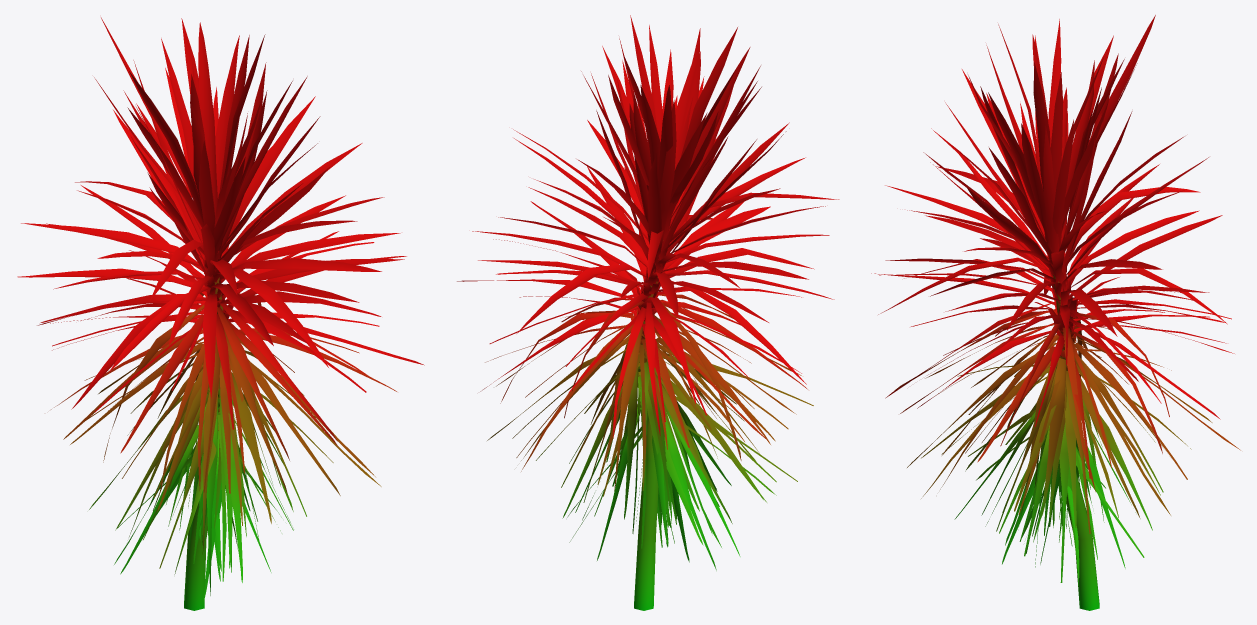
File: Var4_LOD4.fbx
3 renders of one model, left to right at view 1: azimuth 30°, elevation 25°; view 2: azimuth 150°, elevation 25°; view 3: azimuth 270°, elevation 25°, orthographic. The views are drawn at different scales.
Visible parts, largest first — view 1: _746m_Var4_LOD4; view 2: _746m_Var4_LOD4; view 3: _746m_Var4_LOD4.
Part boxes in pixels (x1,y1,x2,y2): _746m_Var4_LOD4: (17,17,424,610); _746m_Var4_LOD4: (457,15,839,610); _746m_Var4_LOD4: (871,15,1240,610).
Bounding box in the file's own units: 87.24 × 148 × 88.71.
